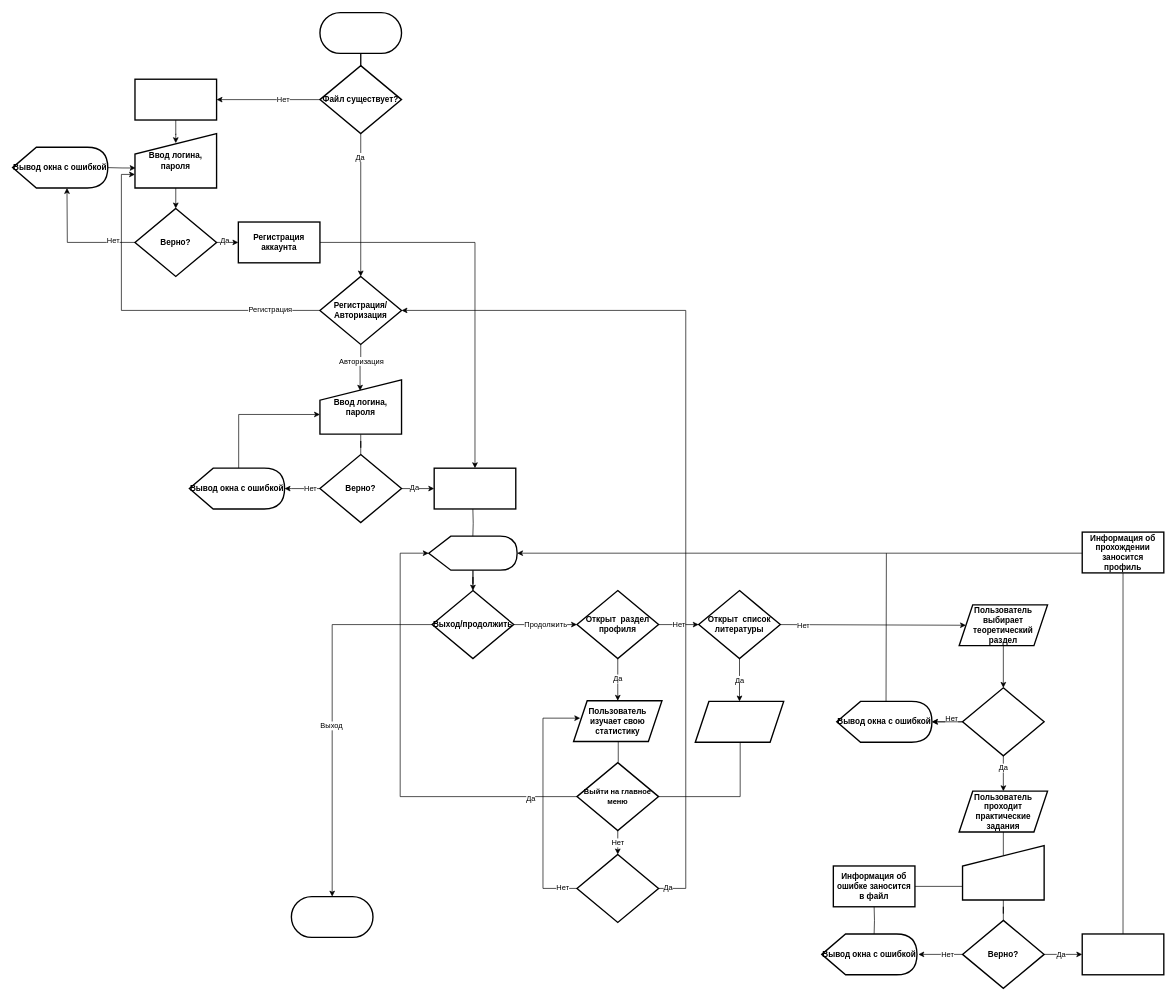
The diagram is 1176 pixels wide and 1000 high, and some of its shapes have lost their labels. Here are the shapes that lost their labels. From the top down, the centre of each, then its label:
the point at 360,33: НАЧАЛО
the point at 175,99: Создание файла
the point at 474,488: Вход в аккаунт
the point at 472,553: Главное меню
the point at 739,721: Пользователь изучает список литературы
the point at 1003,721: Раздел доступен
the point at 617,888: Выйти из аккаунта
the point at 1003,872: Ввод ответов практических заданий
the point at 331,917: КОНЕЦ
the point at 1122,954: Информация об прохождении заносится в файл
